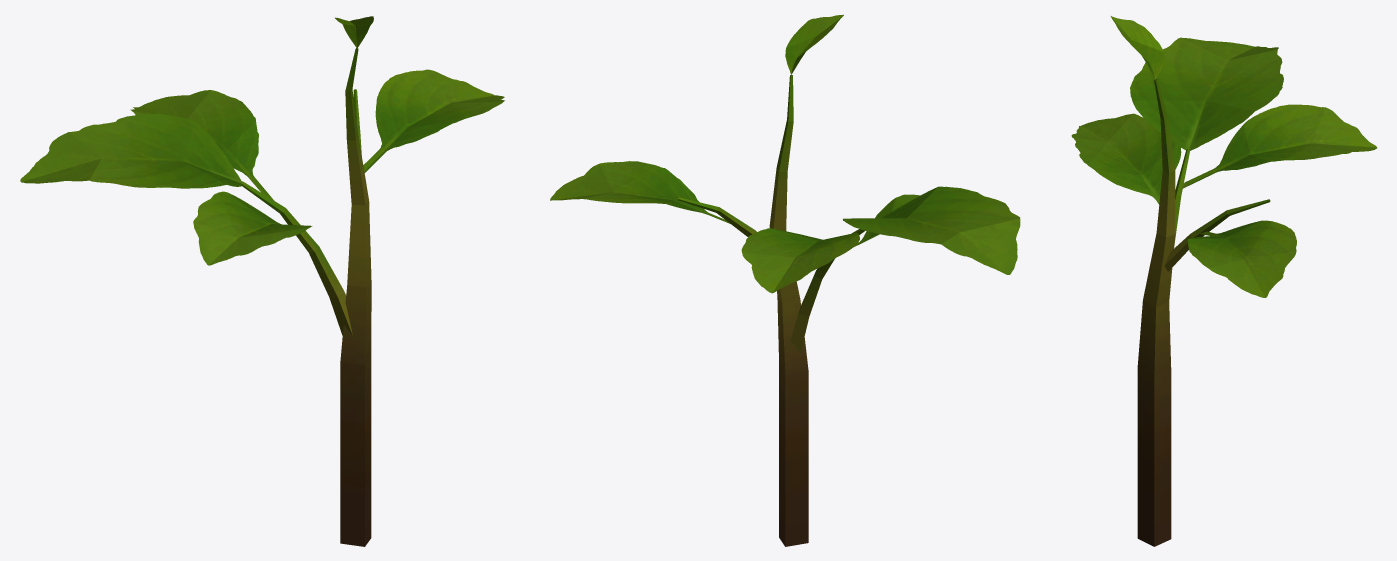
Rendered from P_Herb_00175_small.obj.
3 renders of one model, left to right at view 1: azimuth 30°, elevation 25°; view 2: azimuth 150°, elevation 25°; view 3: azimuth 270°, elevation 25°, orthographic. The views are drawn at different scales.
Size of the model in its own units: 0.3839 by 0.4093 by 0.2331.
1 material, 1 textured.
